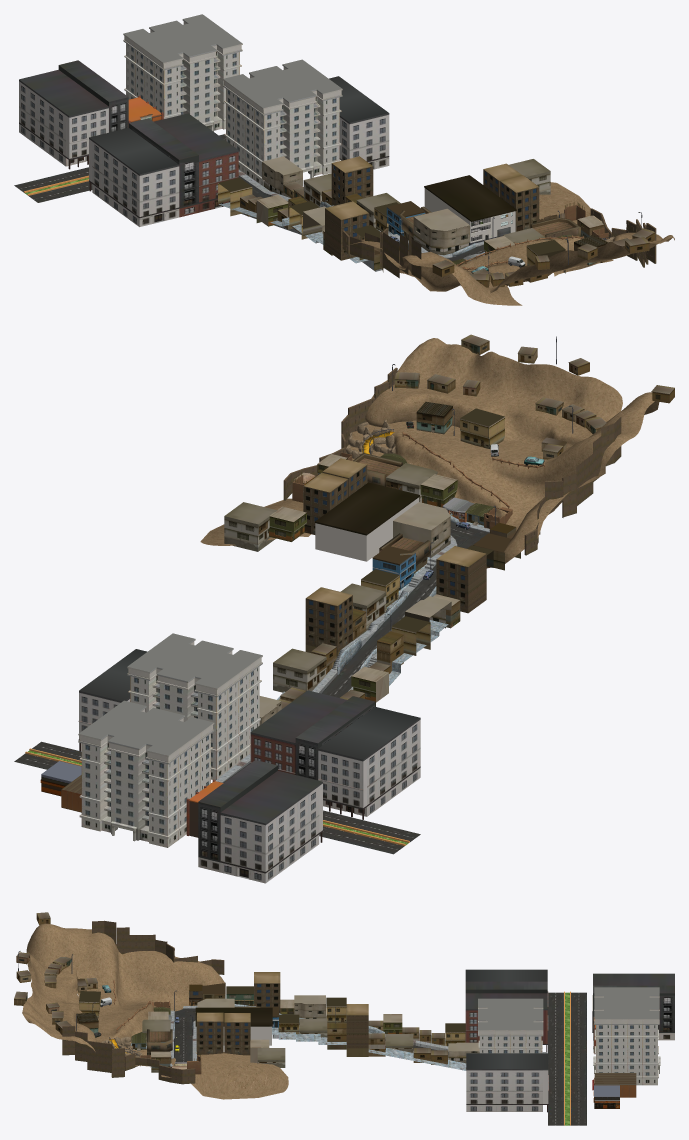
The model's file is popular_streets_of_lima__ps1_environment-opt.glb.
3 renders of one model, top to bottom at view 1: azimuth 30°, elevation 25°; view 2: azimuth 150°, elevation 25°; view 3: azimuth 270°, elevation 25°, orthographic. The views are drawn at different scales.
Visible parts, largest first — view 1: Condo.002_atlas_facade2_0, Cube.059_atlas_facade_0, Plane.014_atlas_poorfacade2_0, Cube.060_atlas_poorfacade_0, Cube.008_ground_0, friends Home_atlas_poorfacade3_0, Plane.017_atlas_street_0, Plane.049_concretopoor_0; view 2: Cube.059_atlas_facade_0, Condo.002_atlas_facade2_0, Cube.008_ground_0, Plane.014_atlas_poorfacade2_0, Cube.060_atlas_poorfacade_0, Plane.017_atlas_street_0, friends Home_atlas_poorfacade3_0, Plane.049_concretopoor_0, Cube.066_rocks_0; view 3: Cube.008_ground_0, Plane.014_atlas_poorfacade2_0, Cube.059_atlas_facade_0, Condo.002_atlas_facade2_0, Plane.017_atlas_street_0, Cube.060_atlas_poorfacade_0, friends Home_atlas_poorfacade3_0, Plane.049_concretopoor_0, Plane.090_grass_0.
Boxes of the visible parts, x1=… form: Condo.002_atlas_facade2_0: x1=19, y1=60, x2=389, y2=226; Cube.059_atlas_facade_0: x1=123, y1=14, x2=516, y2=261; Plane.014_atlas_poorfacade2_0: x1=240, y1=156, x2=656, y2=287; Cube.060_atlas_poorfacade_0: x1=256, y1=156, x2=608, y2=265; Cube.008_ground_0: x1=350, y1=182, x2=674, y2=305; friends Home_atlas_poorfacade3_0: x1=218, y1=177, x2=607, y2=273; Plane.017_atlas_street_0: x1=14, y1=134, x2=510, y2=271; Plane.049_concretopoor_0: x1=219, y1=191, x2=484, y2=263; Cube.059_atlas_facade_0: x1=61, y1=482, x2=474, y2=847; Condo.002_atlas_facade2_0: x1=40, y1=649, x2=420, y2=883; Cube.008_ground_0: x1=200, y1=338, x2=659, y2=568; Plane.014_atlas_poorfacade2_0: x1=278, y1=334, x2=674, y2=708; Cube.060_atlas_poorfacade_0: x1=224, y1=406, x2=512, y2=724; Plane.017_atlas_street_0: x1=14, y1=521, x2=489, y2=854; friends Home_atlas_poorfacade3_0: x1=361, y1=401, x2=504, y2=655; Plane.049_concretopoor_0: x1=277, y1=515, x2=483, y2=699; Cube.066_rocks_0: x1=346, y1=419, x2=395, y2=458; Cube.008_ground_0: x1=22, y1=923, x2=288, y2=1099; Plane.014_atlas_poorfacade2_0: x1=14, y1=912, x2=447, y2=1084; Cube.059_atlas_facade_0: x1=168, y1=987, x2=660, y2=1097; Condo.002_atlas_facade2_0: x1=189, y1=969, x2=674, y2=1112; Plane.017_atlas_street_0: x1=170, y1=991, x2=586, y2=1125; Cube.060_atlas_poorfacade_0: x1=76, y1=995, x2=479, y2=1074; friends Home_atlas_poorfacade3_0: x1=76, y1=986, x2=465, y2=1046; Plane.049_concretopoor_0: x1=173, y1=1004, x2=466, y2=1070; Plane.090_grass_0: x1=565, y1=992, x2=569, y2=1125.
Size of the model in its own units: 147 by 63.29 by 284.
Materials: 28 (25 with a texture image).
